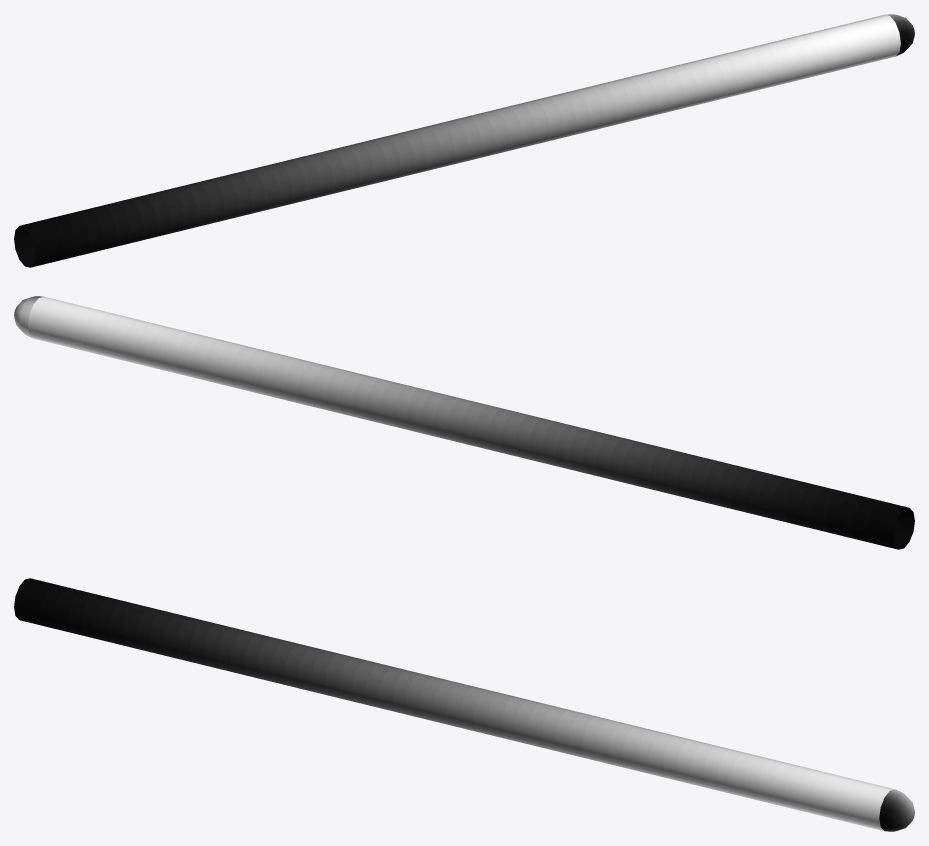
File: Bullet.FBX
3 renders of one model, top to bottom at view 1: azimuth 30°, elevation 25°; view 2: azimuth 150°, elevation 25°; view 3: azimuth 330°, elevation 25°, orthographic.
Parts seen in each view (by area): view 1: OilTank001; view 2: OilTank001; view 3: OilTank001.
Boxes of the visible parts, x1,y1,x2,y2 form: OilTank001: [14, 14, 914, 267]; OilTank001: [14, 296, 914, 549]; OilTank001: [14, 578, 914, 831].
Bounding box in the file's own units: 8.46 × 0.3577 × 0.3577.
Materials: 1 (1 with a texture image).
